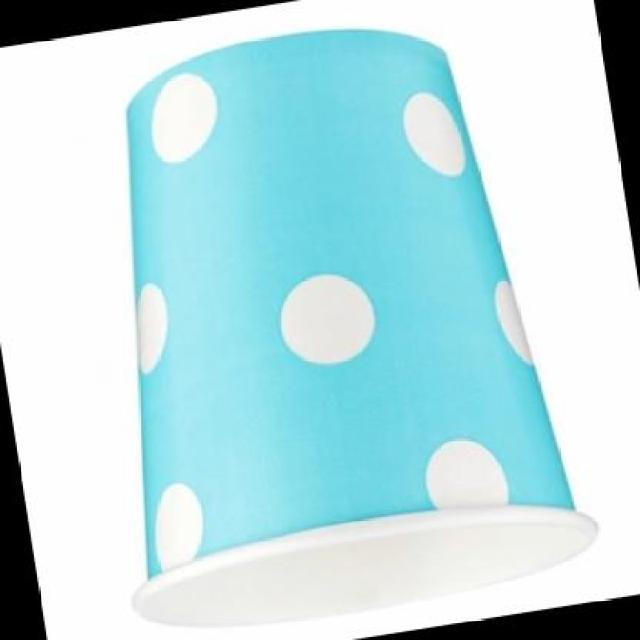non-biodegradable: (34, 0, 608, 640)
